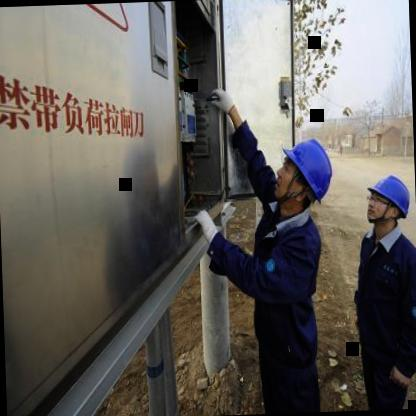helmet: (271, 130, 345, 219), (362, 168, 414, 236)
